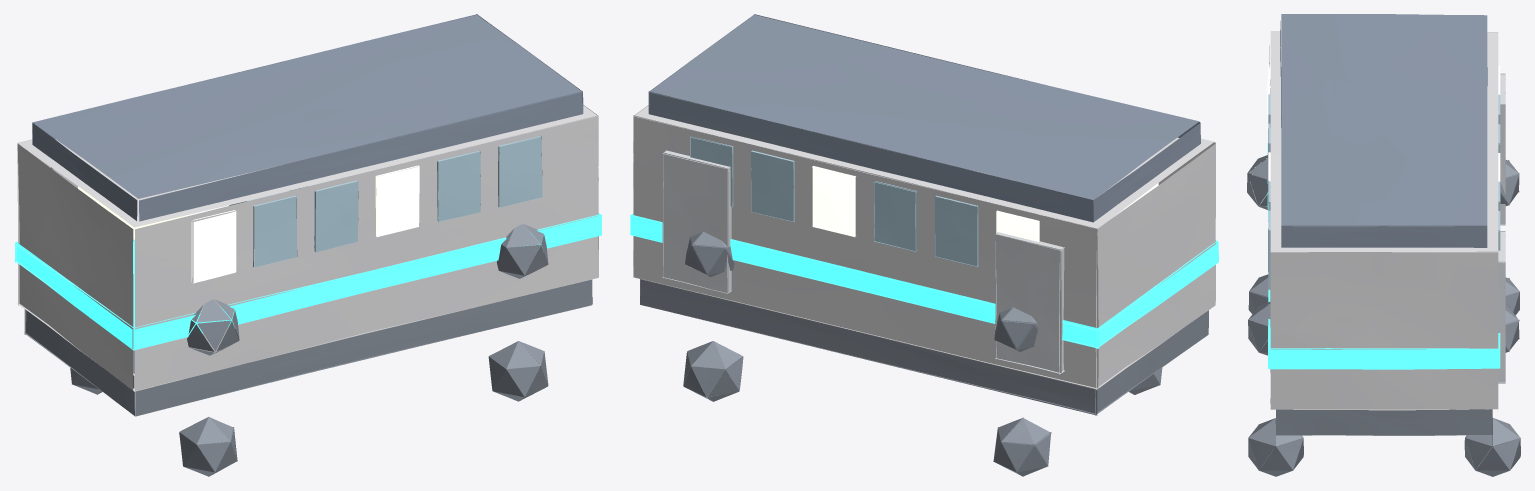
The model's file is car.glb.
3 renders of one model, left to right at view 1: azimuth 30°, elevation 25°; view 2: azimuth 150°, elevation 25°; view 3: azimuth 270°, elevation 25°, orthographic. The views are drawn at different scales.
Visible parts, largest first — view 1: MetroCar; view 2: MetroCar; view 3: MetroCar.
Part boxes in pixels (x1,y1,x2,y2): MetroCar: [14, 14, 601, 476]; MetroCar: [630, 14, 1218, 476]; MetroCar: [1247, 14, 1520, 476].
Size of the model in its own units: 2.43 by 1.45 by 1.26.
